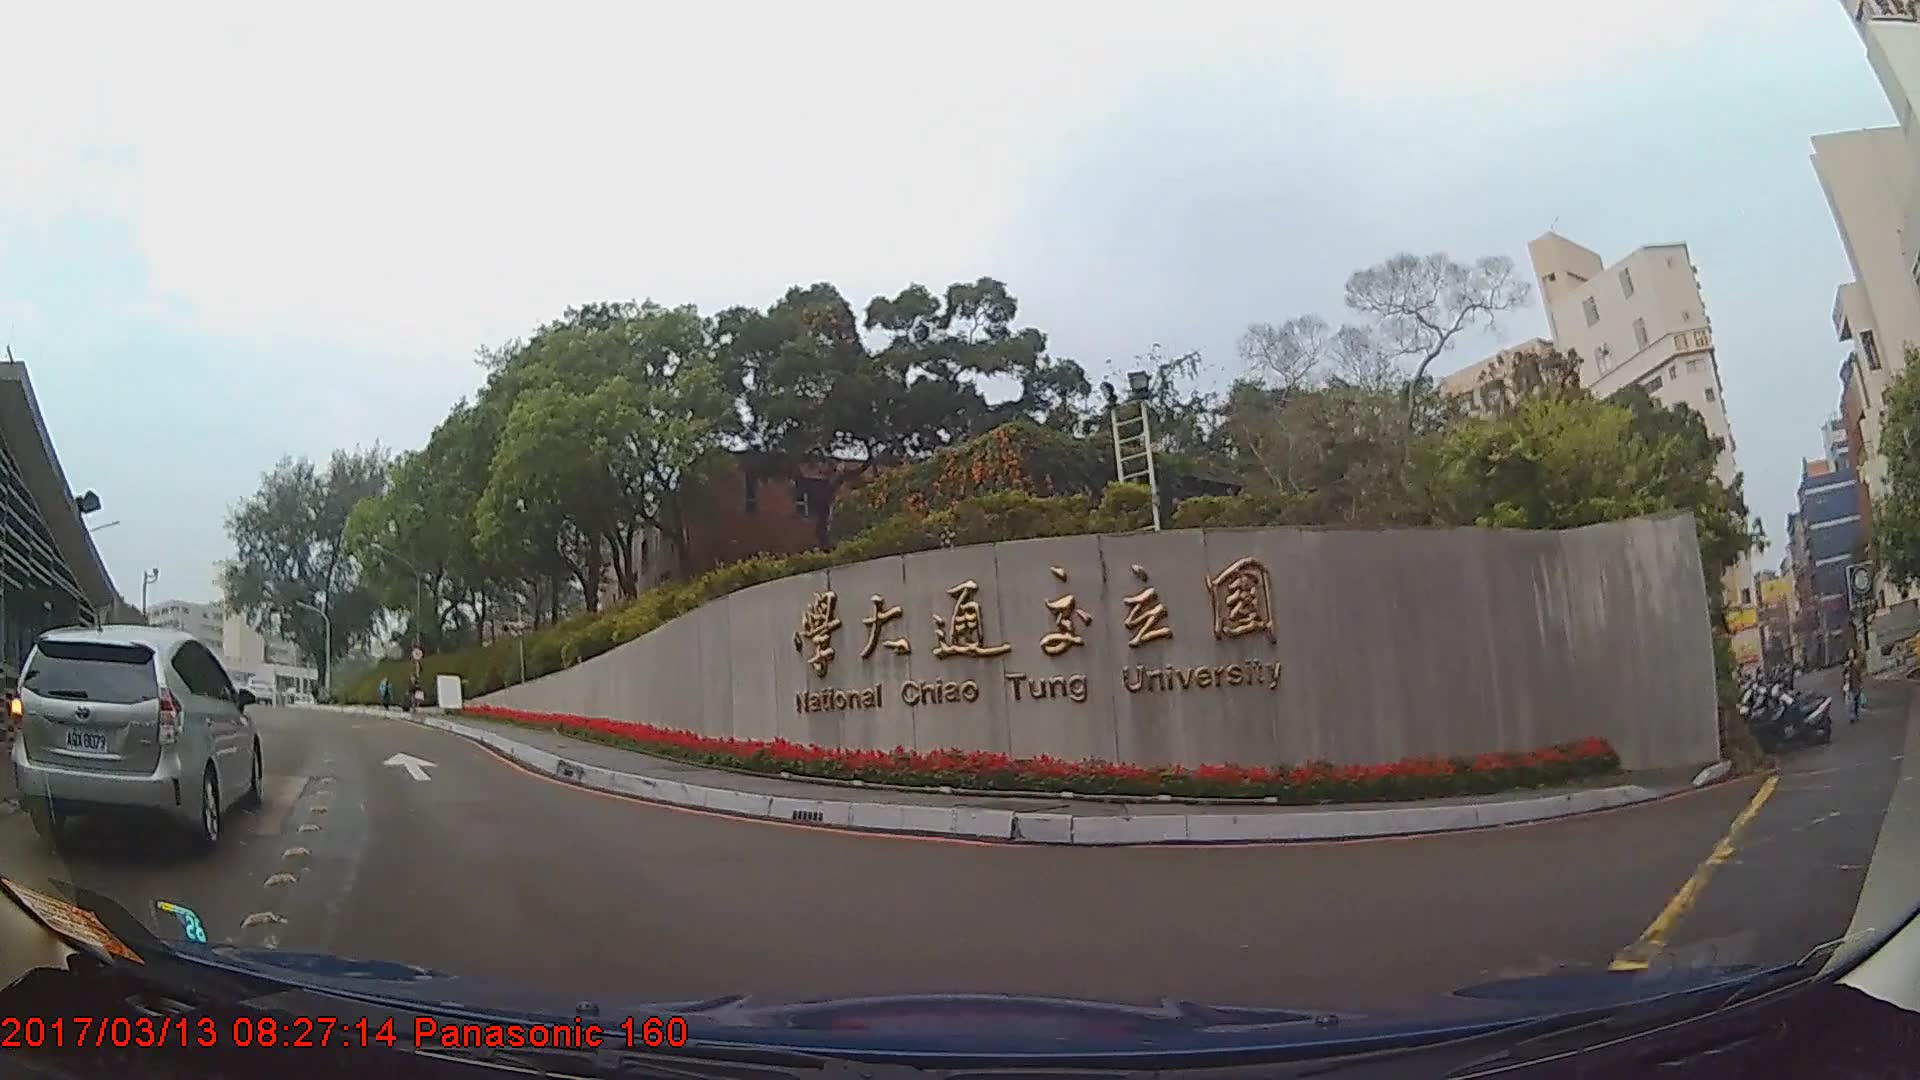pedestrian: (1844, 649, 1867, 727)
vehicle: (13, 624, 263, 854), (243, 676, 276, 704)
